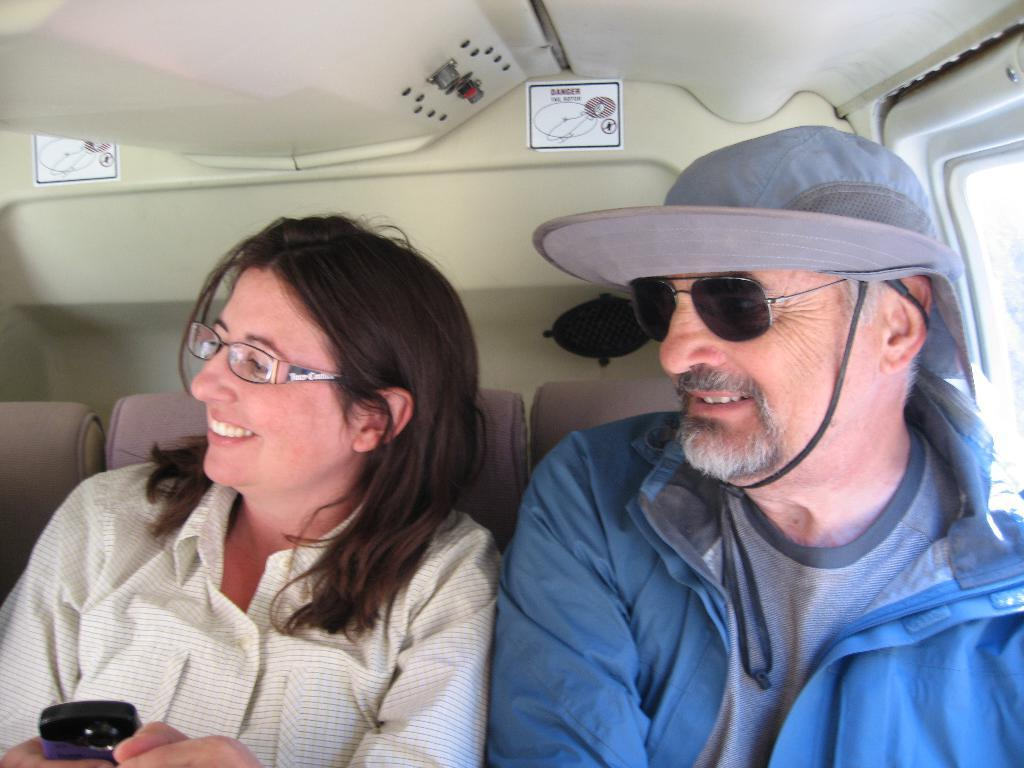Hat: (530, 127, 966, 499)
